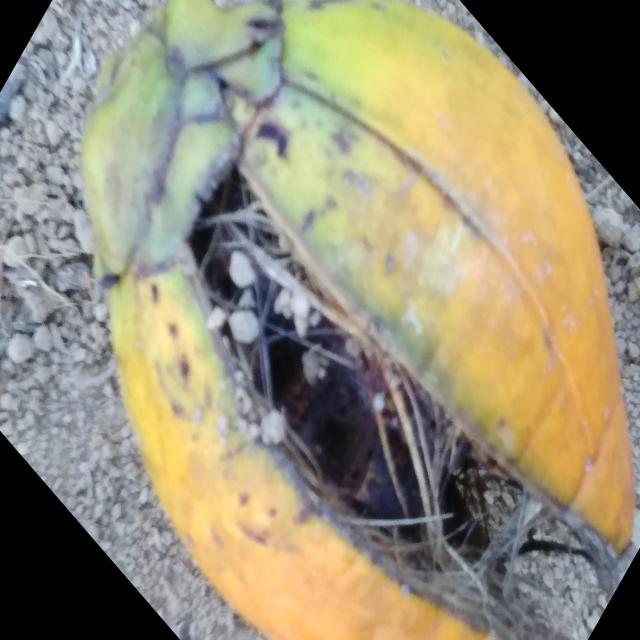damaged: (80, 0, 640, 640)
